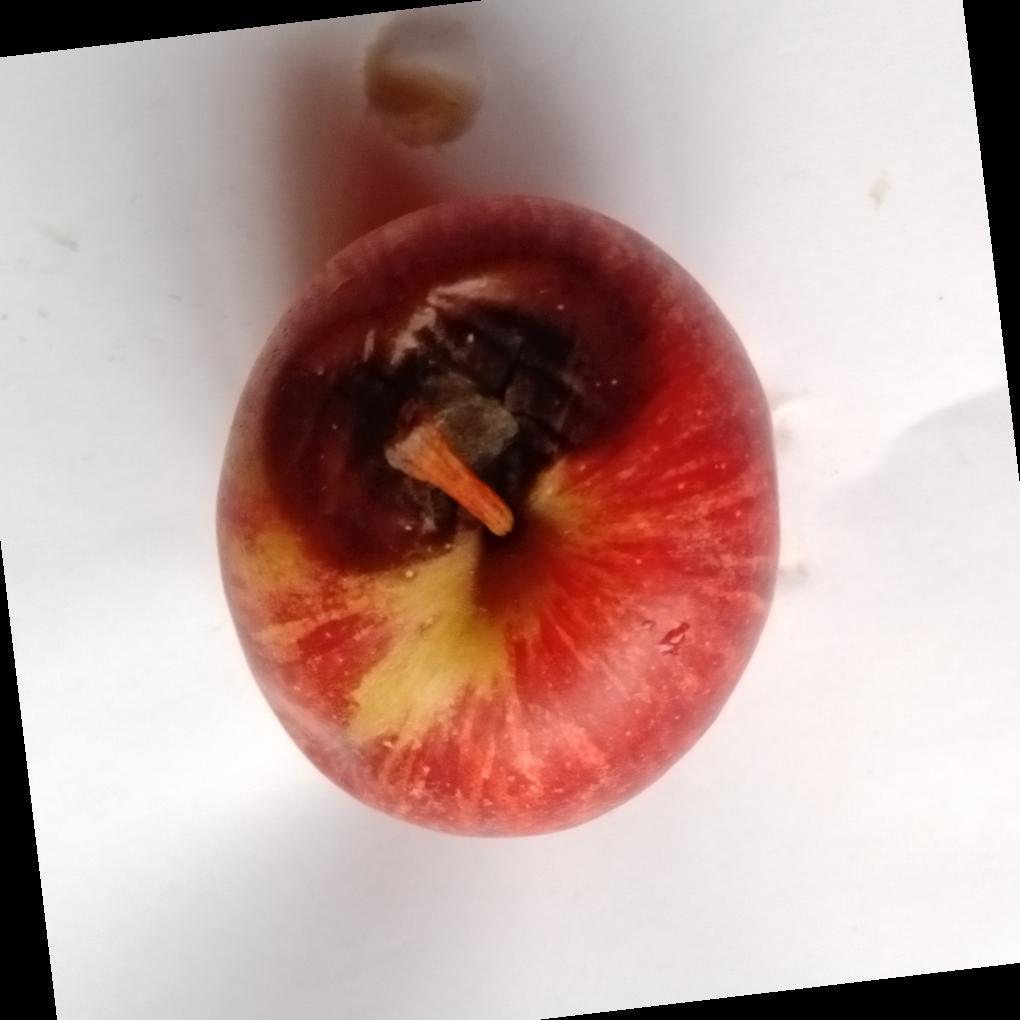FreshOrange: (213, 194, 782, 843)
